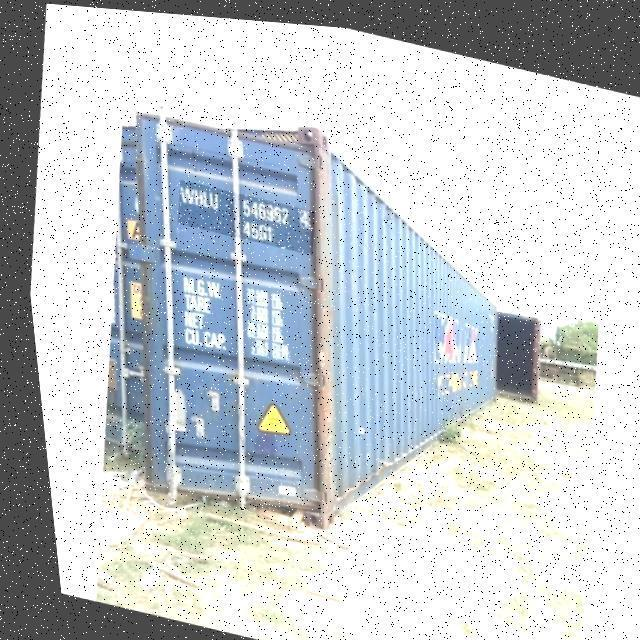container_number_h: (170, 177, 314, 251)
